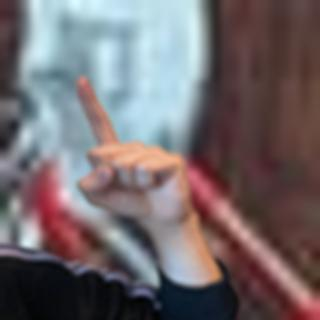IRRITATED: (67, 74, 196, 226)
